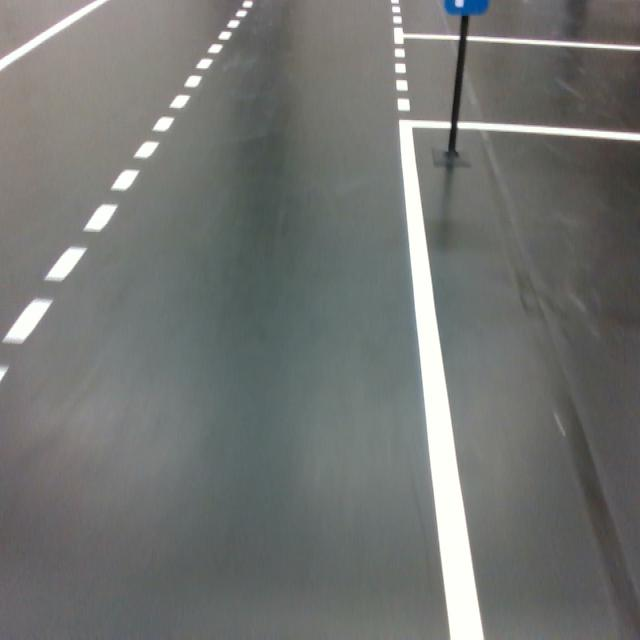parking-sign: (442, 0, 490, 16)
